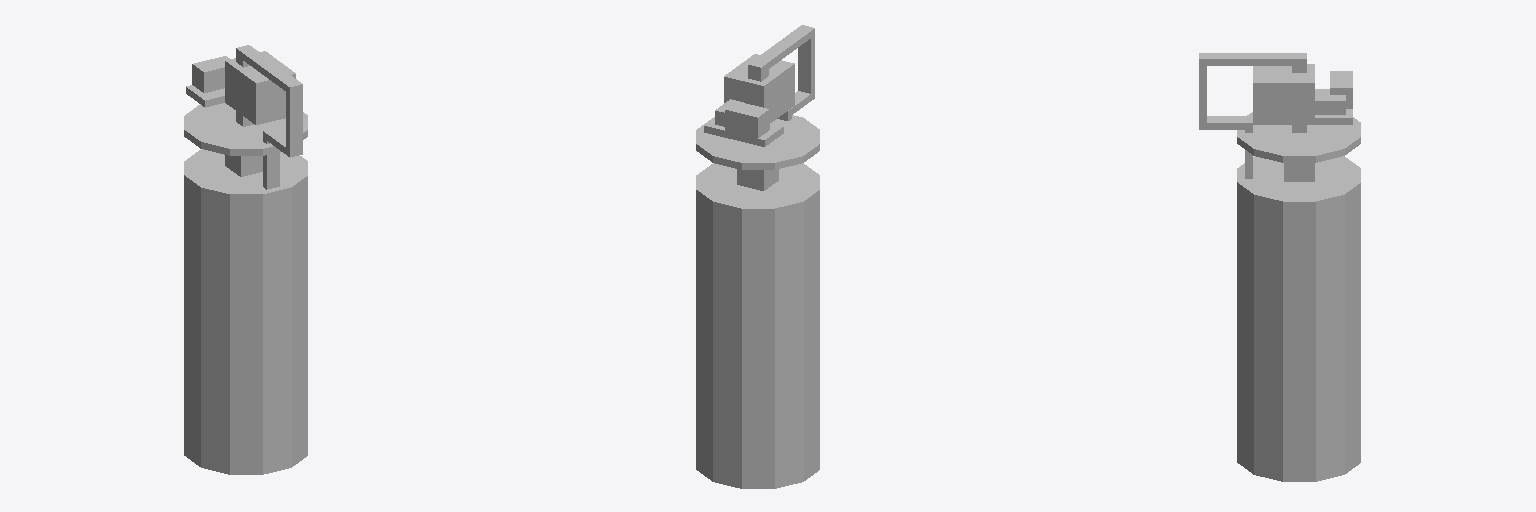
Rendered from silicon_crucible.obj.
3 renders of one model, left to right at view 1: azimuth 30°, elevation 25°; view 2: azimuth 150°, elevation 25°; view 3: azimuth 270°, elevation 25°, orthographic.
Parts seen in each view (by area): view 1: cylinder, cube; view 2: cylinder, cube; view 3: cylinder, cube.
Part boxes in pixels (x1,y1,x2,y2): cylinder: (184, 103, 307, 474); cube: (186, 45, 302, 189); cylinder: (696, 115, 819, 488); cube: (704, 25, 814, 190); cylinder: (1237, 112, 1360, 481); cube: (1199, 53, 1352, 181).
Bounding box in the file's own units: 1 × 3.56 × 1.31.